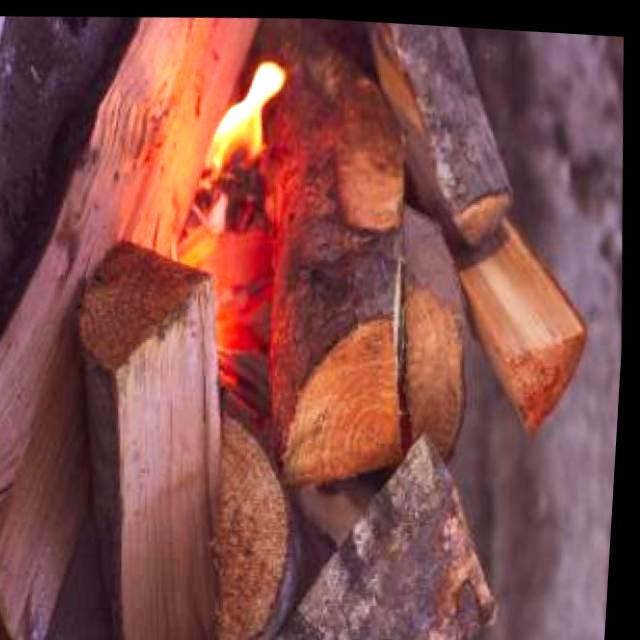fire: (180, 17, 318, 227)
